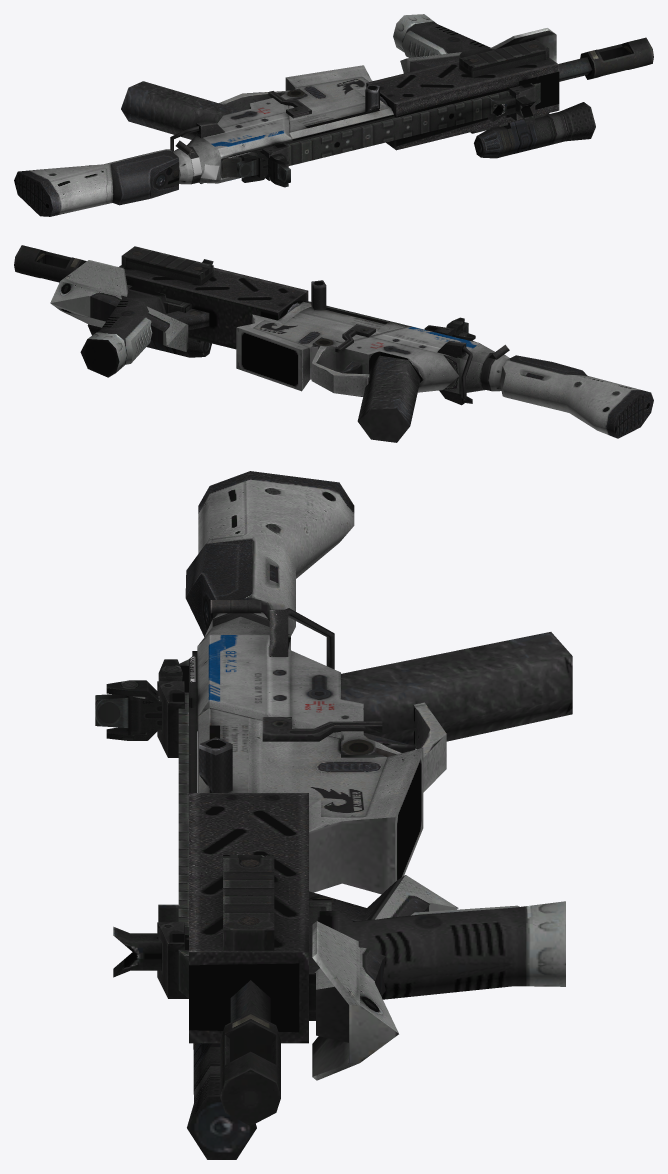
The model's file is t6_wpn_smg_peacekeeper_world_LOD1.obj.
3 renders of one model, top to bottom at view 1: azimuth 30°, elevation 25°; view 2: azimuth 150°, elevation 25°; view 3: azimuth 270°, elevation 25°, orthographic. The views are drawn at different scales.
Visible parts, largest first — view 1: mtl_t6_wpn_smg_peacekeeper_camo2, mtl_t6_wpn_smg_peacekeeper_camo3, mtl_t6_wpn_smg_peacekeeper, mtl_t6_wpn_smg_peacekeeper_camo4; view 2: mtl_t6_wpn_smg_peacekeeper_camo2, mtl_t6_wpn_smg_peacekeeper_camo3, mtl_t6_wpn_smg_peacekeeper_camo4, mtl_t6_wpn_smg_peacekeeper; view 3: mtl_t6_wpn_smg_peacekeeper_camo2, mtl_t6_wpn_smg_peacekeeper_camo3, mtl_t6_wpn_smg_peacekeeper_camo4, mtl_t6_wpn_smg_peacekeeper.
Boxes of the visible parts, x1,y1,x2,y2 form: mtl_t6_wpn_smg_peacekeeper_camo2: [18, 24, 653, 216]; mtl_t6_wpn_smg_peacekeeper_camo3: [14, 14, 603, 216]; mtl_t6_wpn_smg_peacekeeper: [188, 39, 548, 187]; mtl_t6_wpn_smg_peacekeeper_camo4: [175, 30, 559, 180]; mtl_t6_wpn_smg_peacekeeper_camo2: [14, 245, 650, 438]; mtl_t6_wpn_smg_peacekeeper_camo3: [60, 257, 653, 442]; mtl_t6_wpn_smg_peacekeeper_camo4: [50, 281, 509, 373]; mtl_t6_wpn_smg_peacekeeper: [122, 246, 479, 357]; mtl_t6_wpn_smg_peacekeeper_camo2: [95, 471, 514, 1159]; mtl_t6_wpn_smg_peacekeeper_camo3: [185, 539, 572, 1080]; mtl_t6_wpn_smg_peacekeeper_camo4: [157, 600, 458, 1076]; mtl_t6_wpn_smg_peacekeeper: [95, 635, 422, 989].
Bounding box in the file's own units: 60.52 × 9.76 × 20.62.
